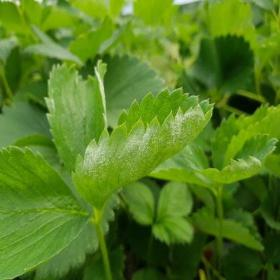Powdery Mildew Leaf: (71, 84, 216, 211), (43, 57, 107, 177)
